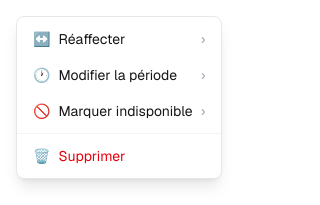
MenuContextuelAffectation › Reassign submenu (AC3, AC4) › should show message when no other chantiers available
The width and height of the screenshot is (320, 205).
Click the text "Réaffecter" at (92, 39), box x1=58 y1=29 x2=125 y2=49
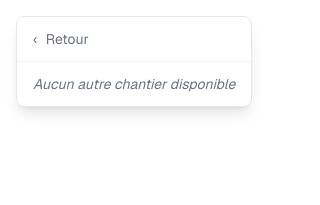
expect the text "Aucun autre chantier disponible" is shown: met, box x1=33 y1=75 x2=235 y2=93
